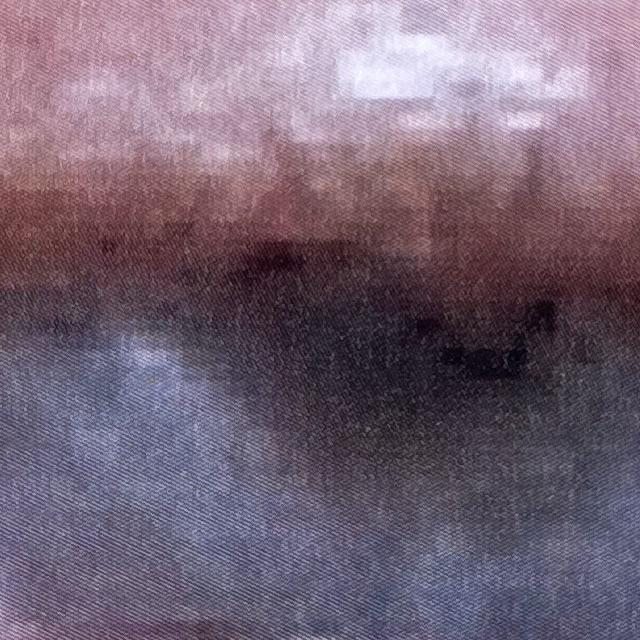eye: (0, 189, 640, 640)
iris: (0, 249, 640, 640)
